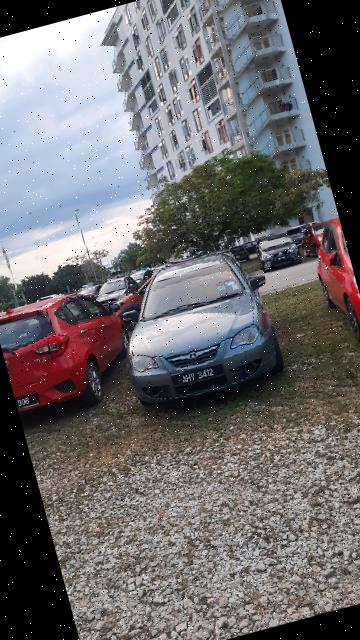License_Plate: (171, 360, 229, 391)
car: (107, 243, 295, 416)
